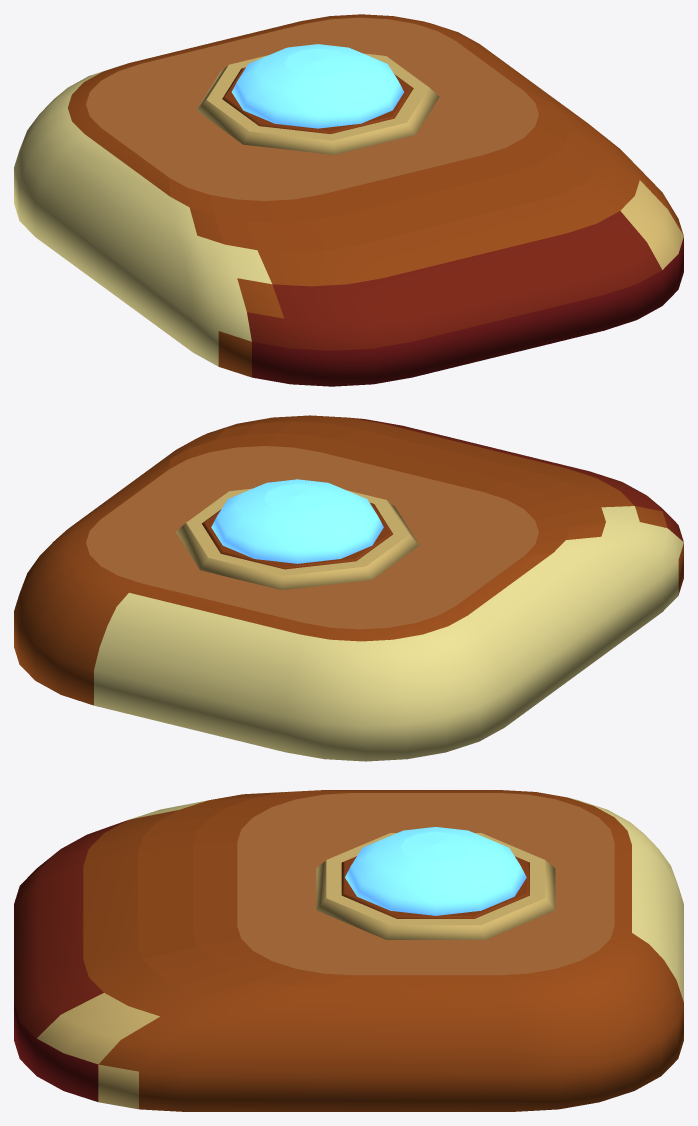
The model's file is newshm-17.glb.
3 views of the same model, one above another, from view 1: azimuth 30°, elevation 25°; view 2: azimuth 150°, elevation 25°; view 3: azimuth 270°, elevation 25° (orthographic). The views are drawn at different scales.
Visible parts, largest first — view 1: newshm-17; view 2: newshm-17; view 3: newshm-17.
Boxes of the visible parts, bbox=[...] form: newshm-17: bbox=[14, 14, 683, 386]; newshm-17: bbox=[14, 415, 683, 761]; newshm-17: bbox=[14, 790, 683, 1111].
Bounding box in the file's own units: 1.92 × 0.565 × 2.25.
